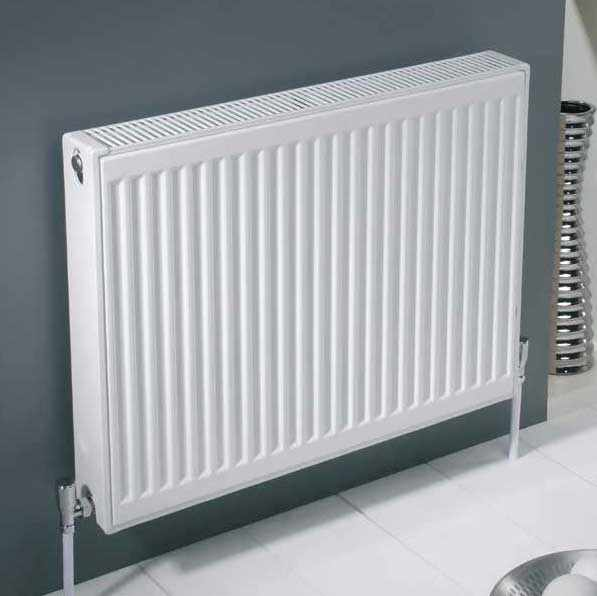Radiator: (53, 44, 539, 544)
